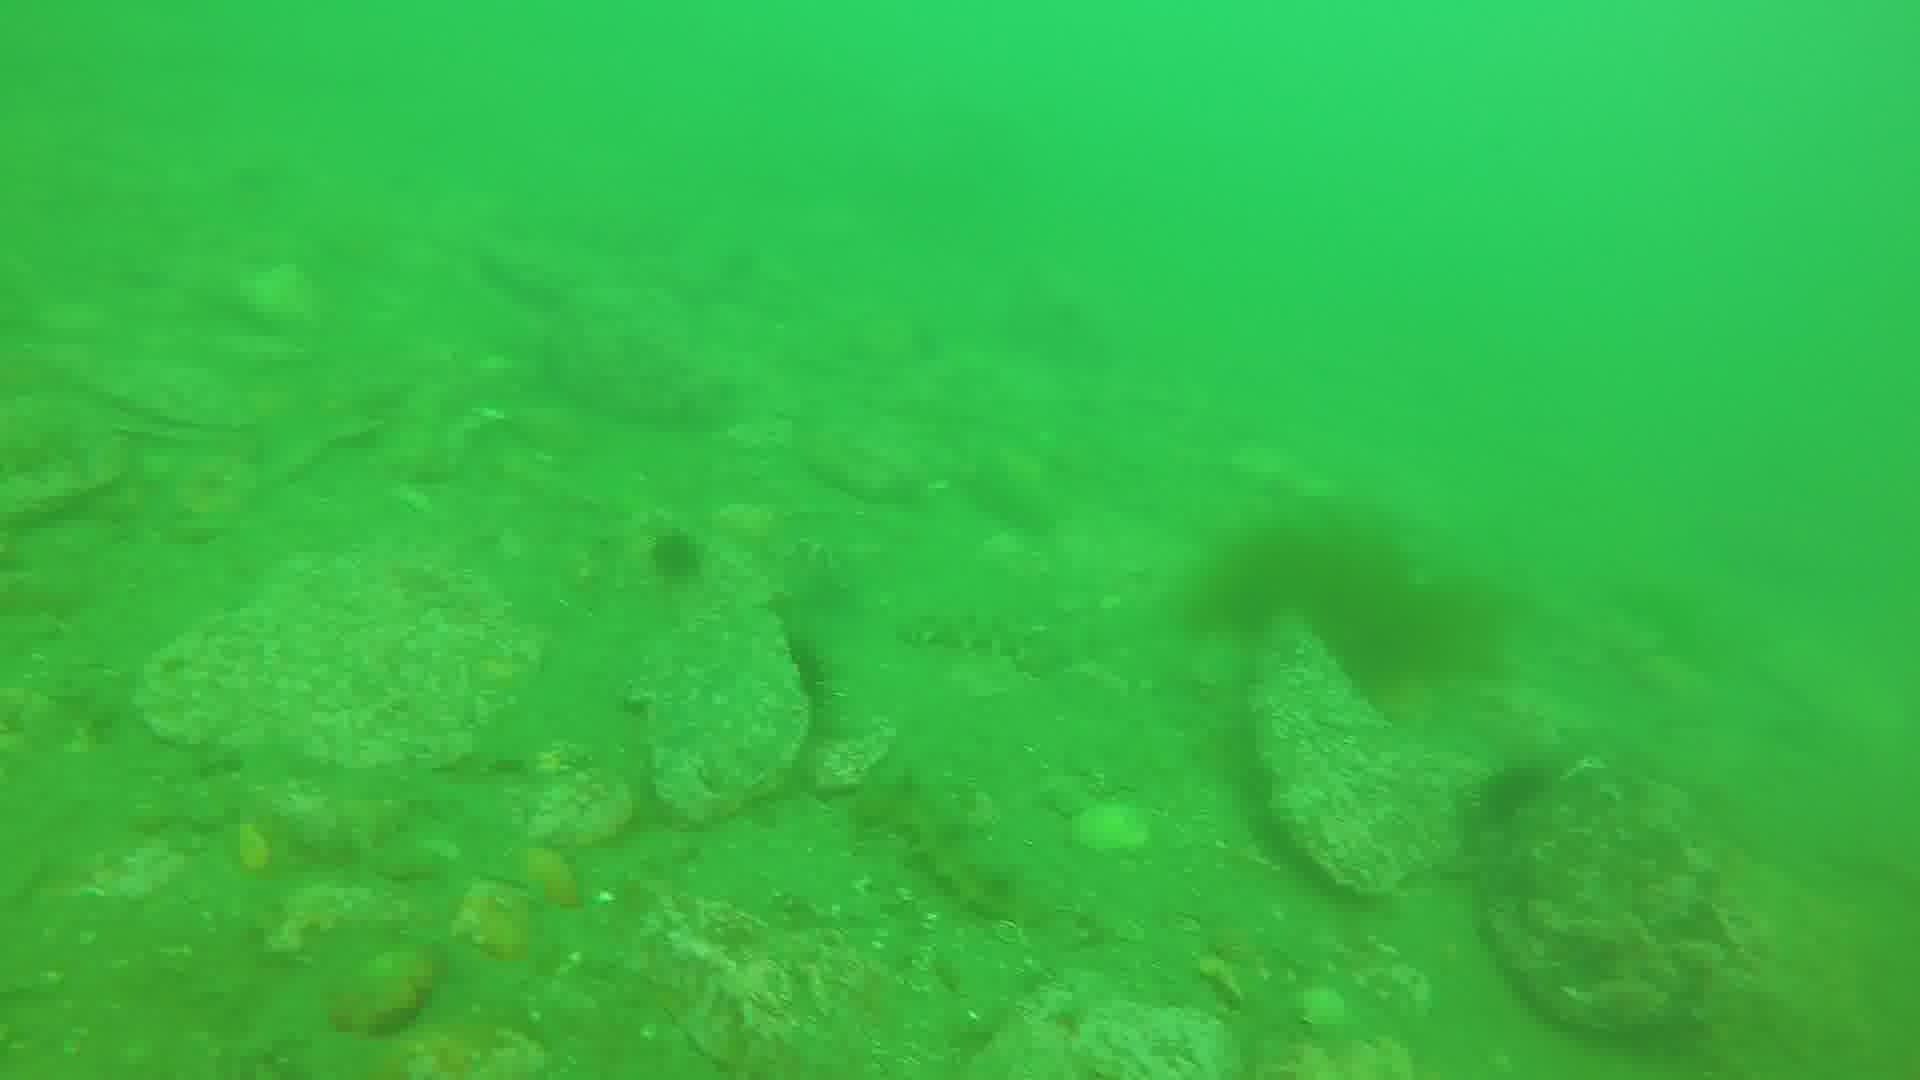echinus: (1484, 752, 1556, 835), (644, 520, 715, 585)
holothurian: (853, 761, 1035, 924), (885, 603, 1069, 675)
